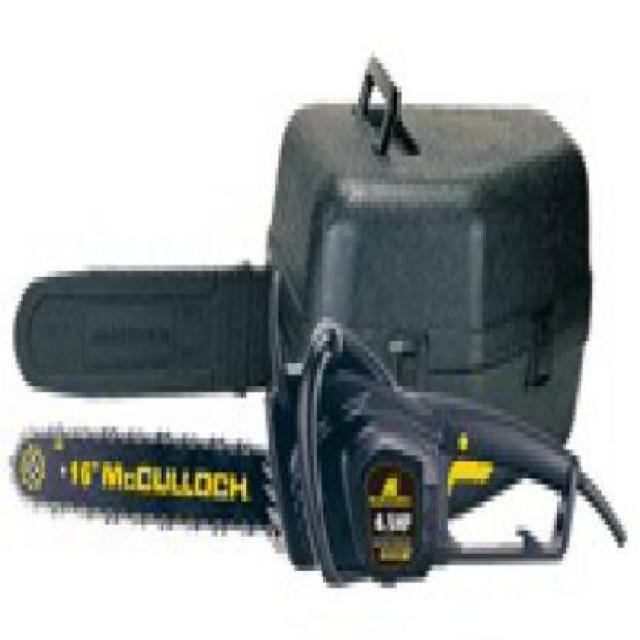Chainsaw: (8, 272, 628, 590)
